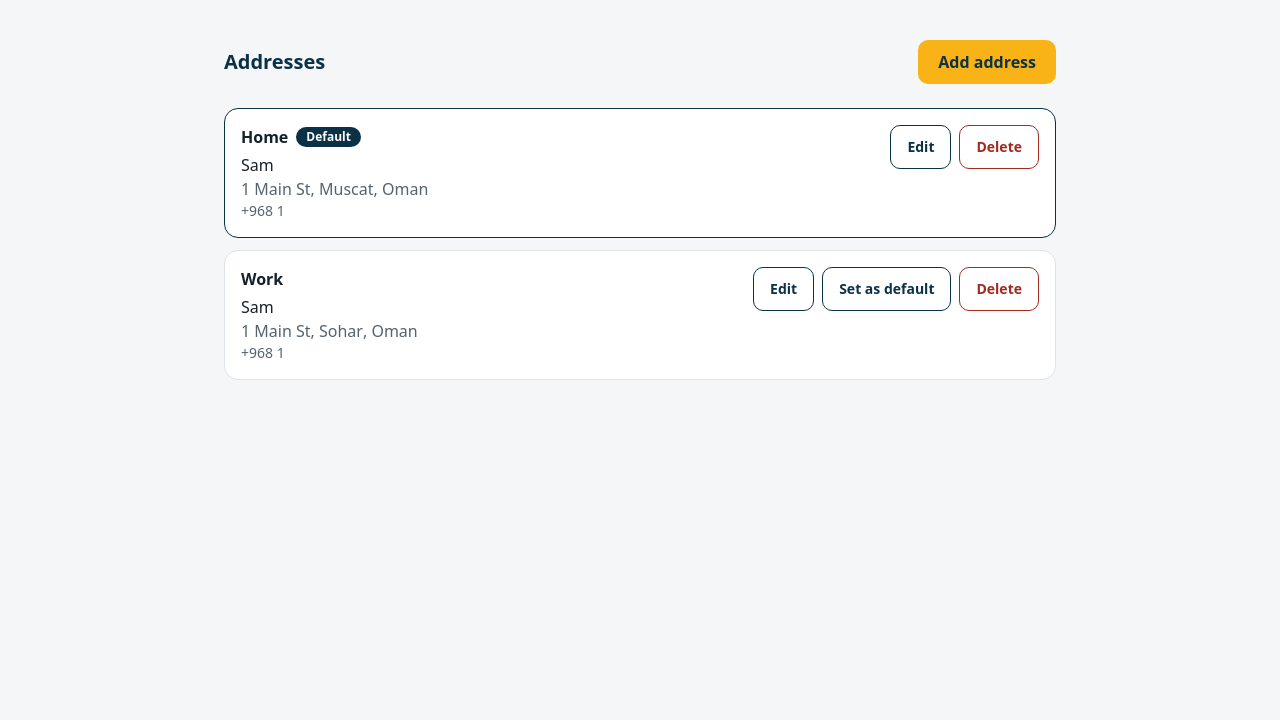
Test: address book › CRITICAL: deleting asks first; Cancel changes nothing; Delete removes that address
Click the button "Delete" in the row of "Work" at (999, 289), box [960,267,1039,311]
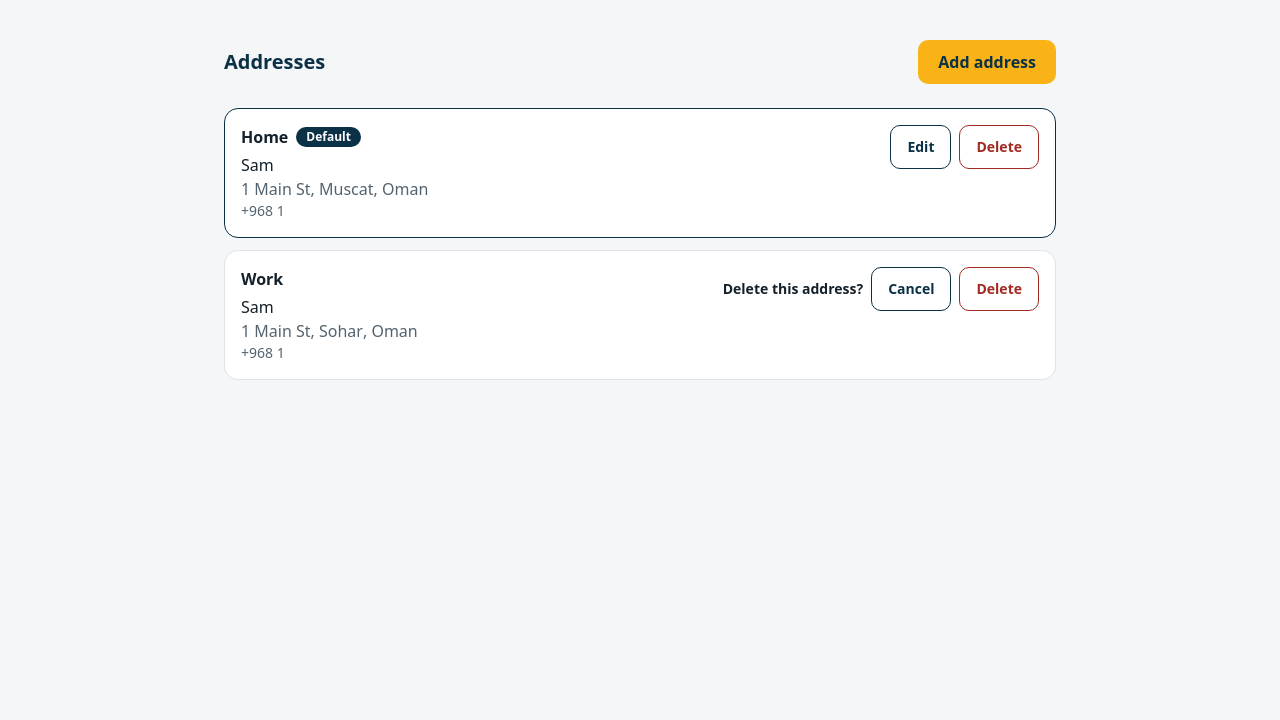
Now the text "Delete this address?" is shown, box [723,279,863,299]
Click the button "Cancel" at (911, 289), box [871,267,952,311]
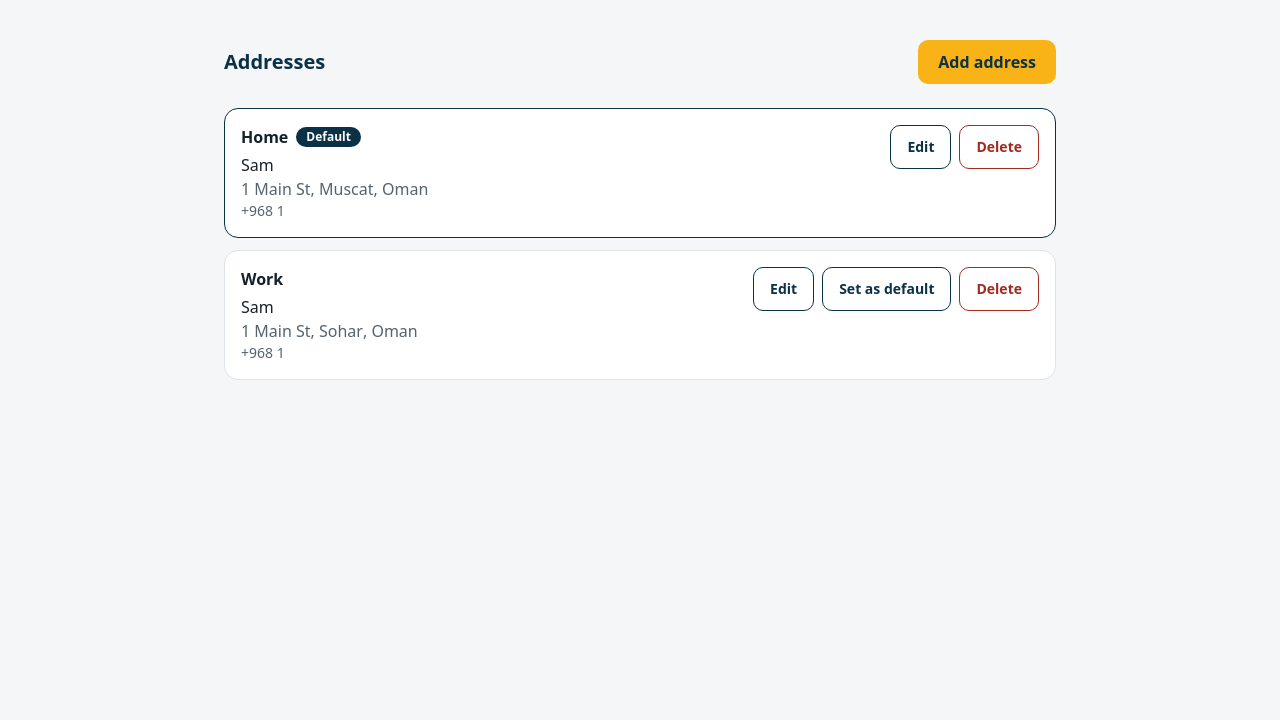
Click the button "Delete" in the row of "Work" at (999, 289), box [960,267,1039,311]
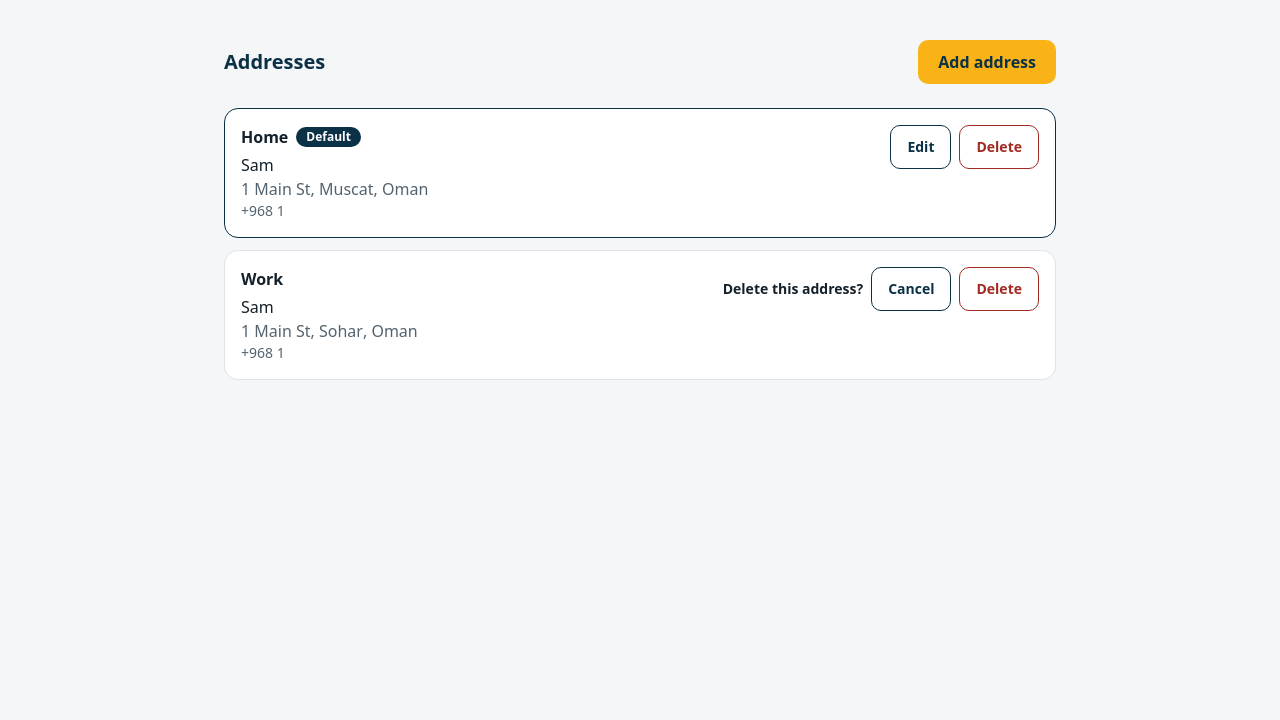
Click the button "Delete" in the row of "Delete this address?" at (999, 289), box [960,267,1039,311]
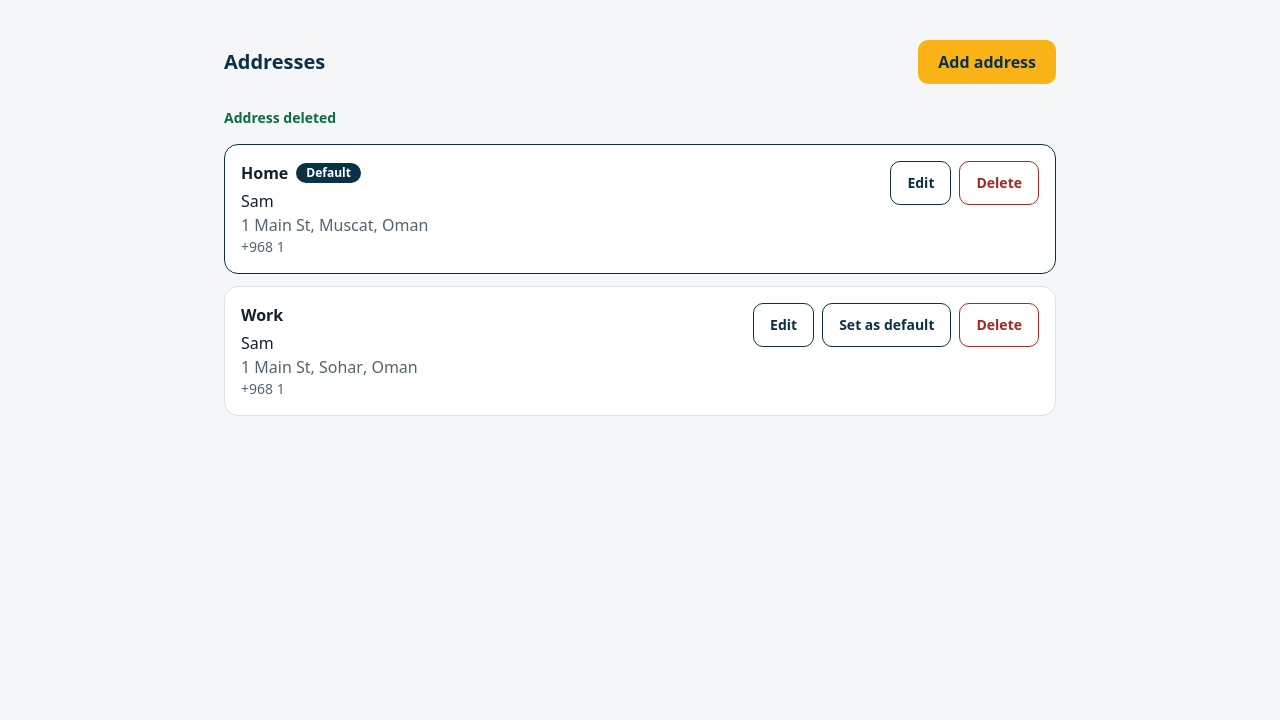
Now the text "Address deleted" is shown, box [224,108,336,127]
